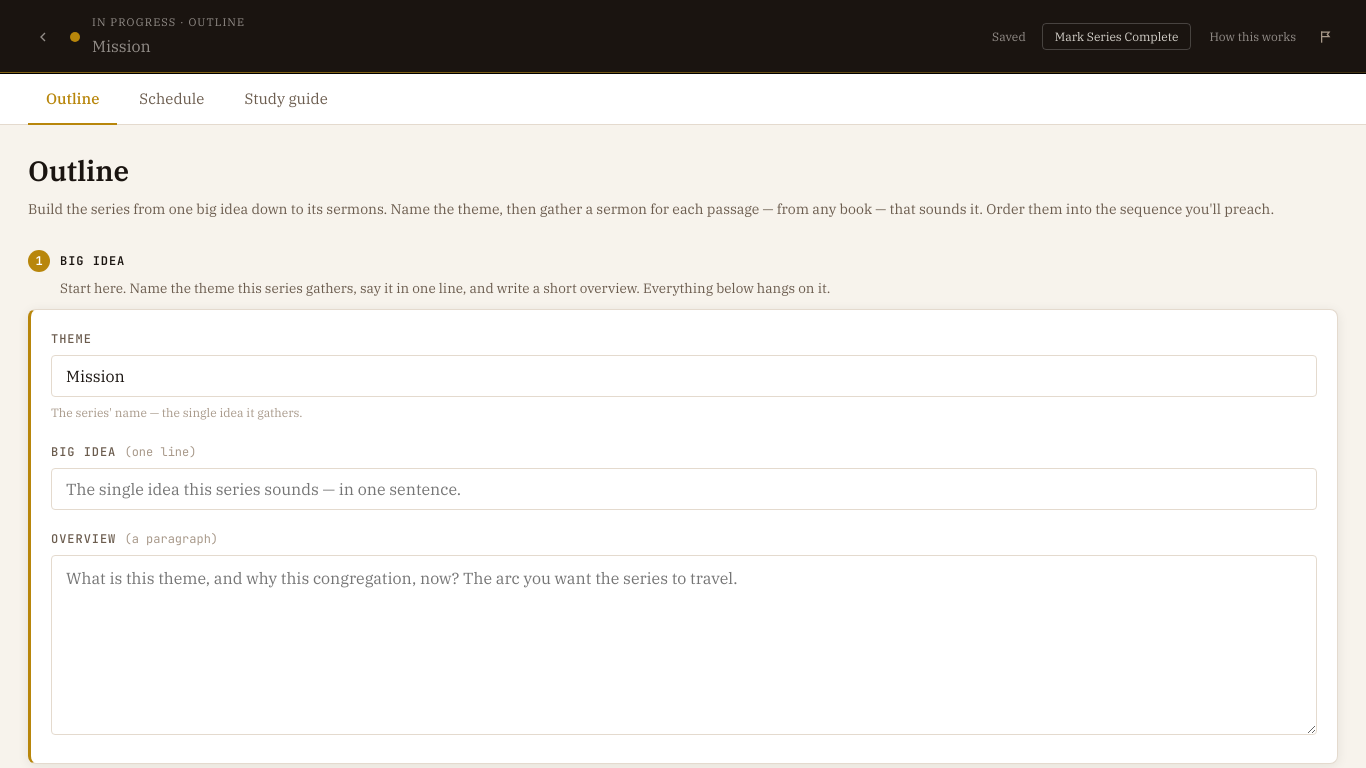
SeriesPlanner — save-failure retry safety › finding 15: a later success for the SAME field supersedes the stale failed write — Retry can't revert it
Expected: the text "Saved" is shown, [992,29,1026,44]
Replace the text in the field with placeholder "e.g. The Mission of God" with "A" at (684, 376), box [51,356,1317,398]
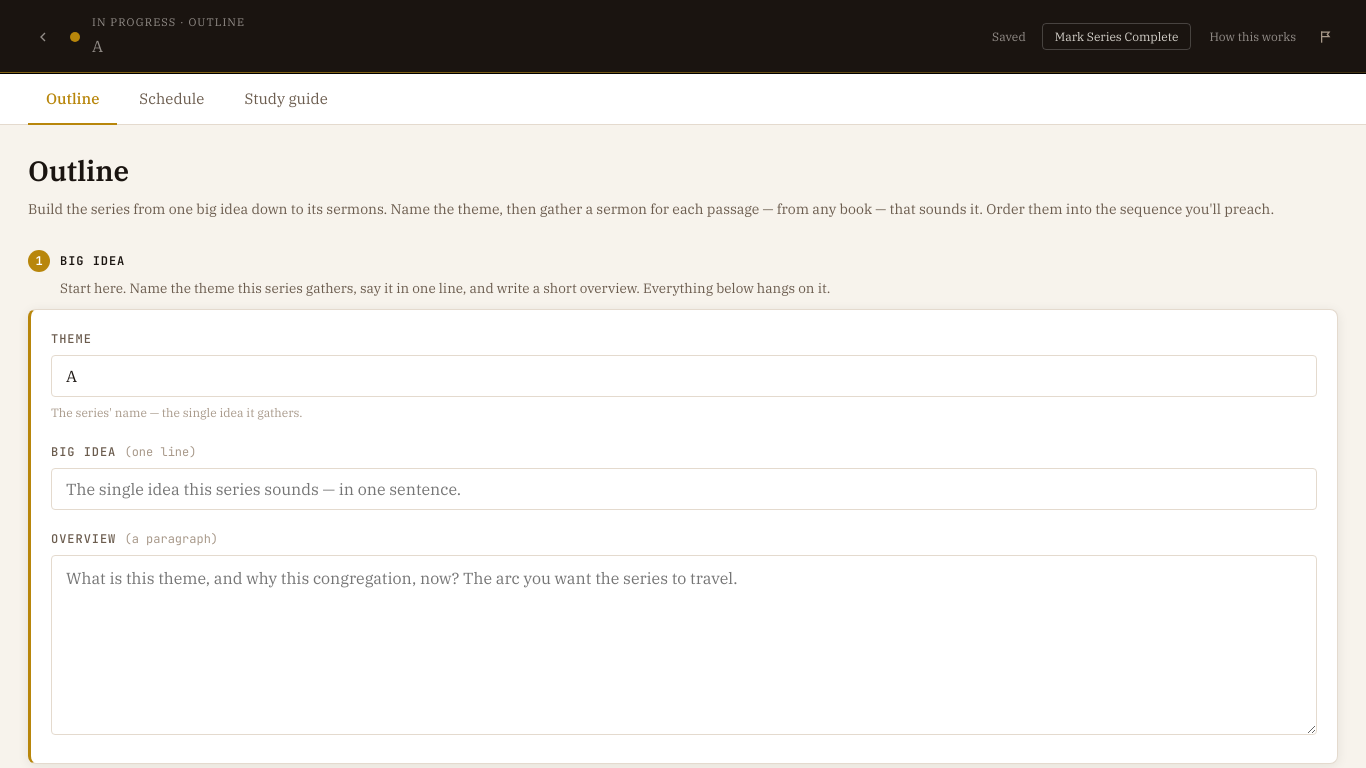
Type "x" into the field with placeholder "The single idea this series sounds — in one sentence." at (684, 489), box [51,468,1317,510]
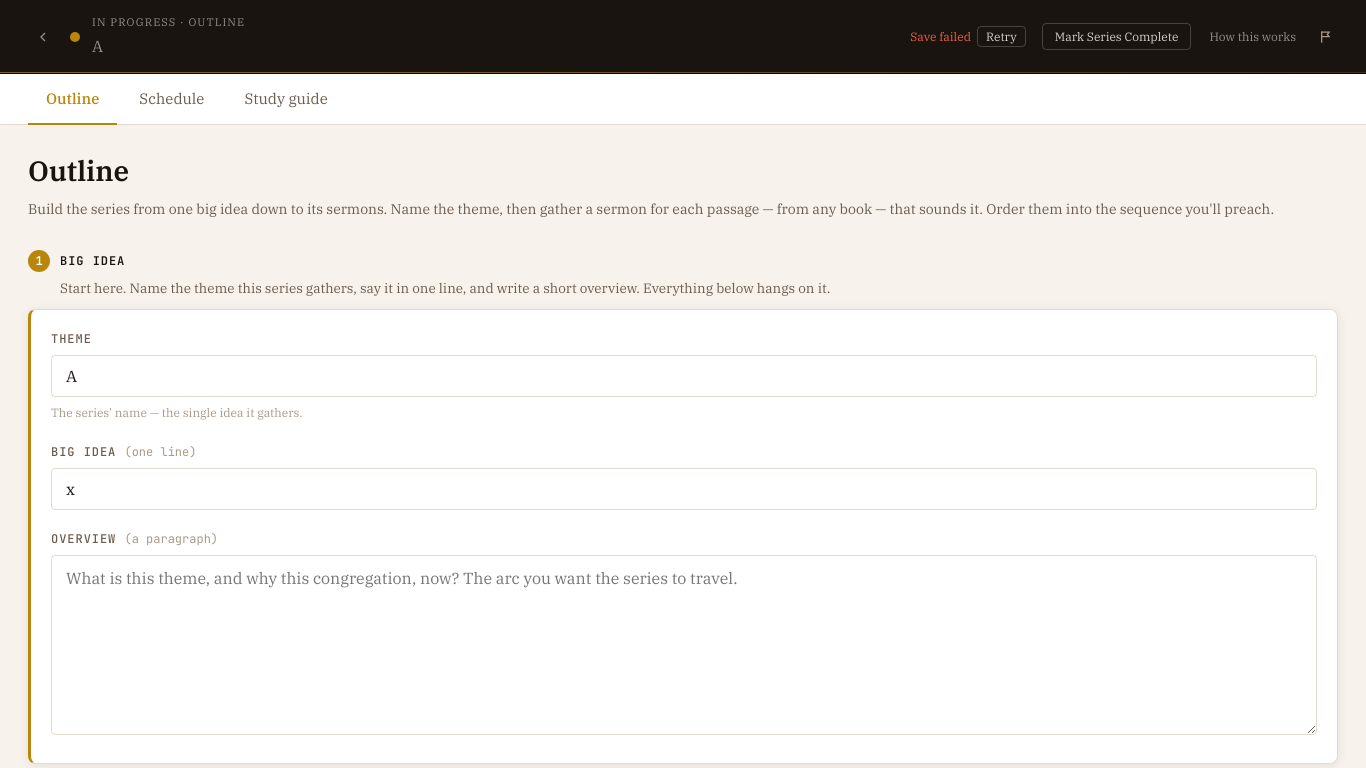
Expected: the text "Save failed" is shown, [910,27,971,46]
Replace the text in the field with placeholder "e.g. The Mission of God" with "AB" at (684, 376), box [51,356,1317,398]
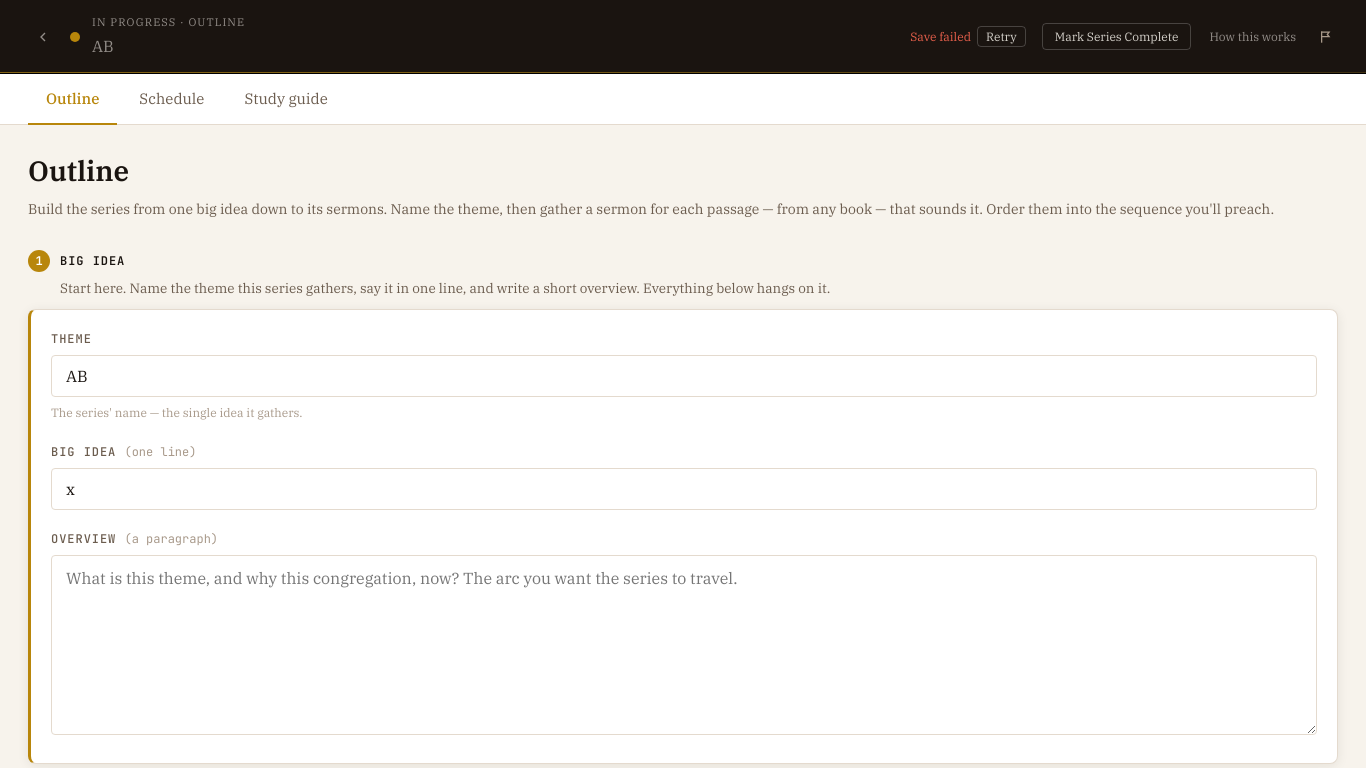
Replace the text in the field with placeholder "The single idea this series sounds — in one sentence." with "y" at (684, 489), box [51,468,1317,510]
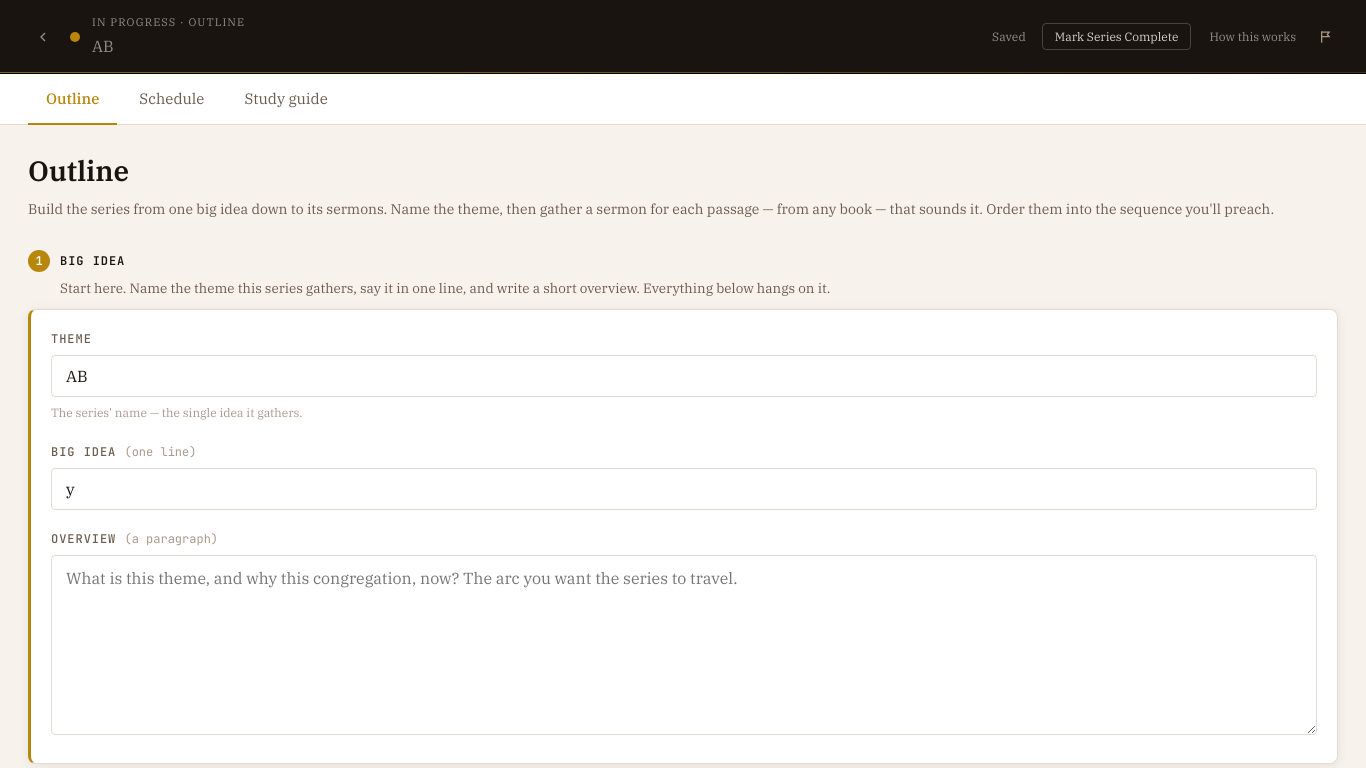
Expected: the text "Saved" is shown, [992,29,1026,44]
